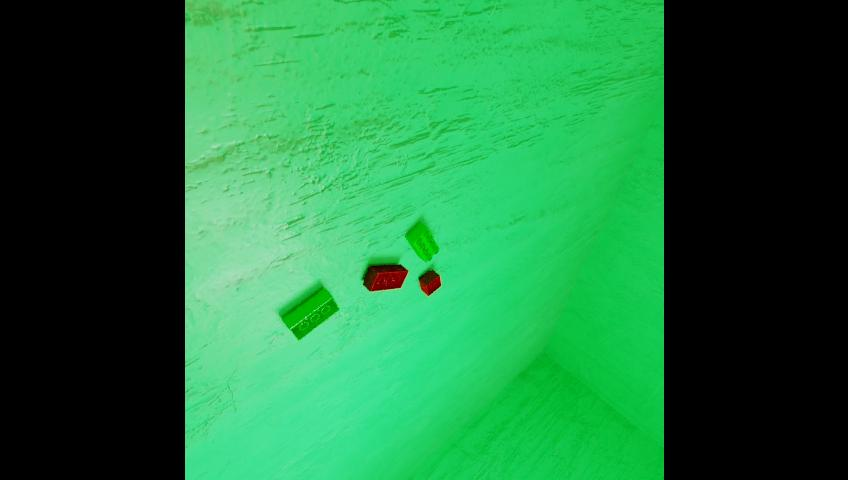2x2_red: (419, 270, 441, 295)
4x2_green: (282, 288, 340, 340), (405, 221, 439, 264)
4x2_red: (361, 265, 408, 292)
